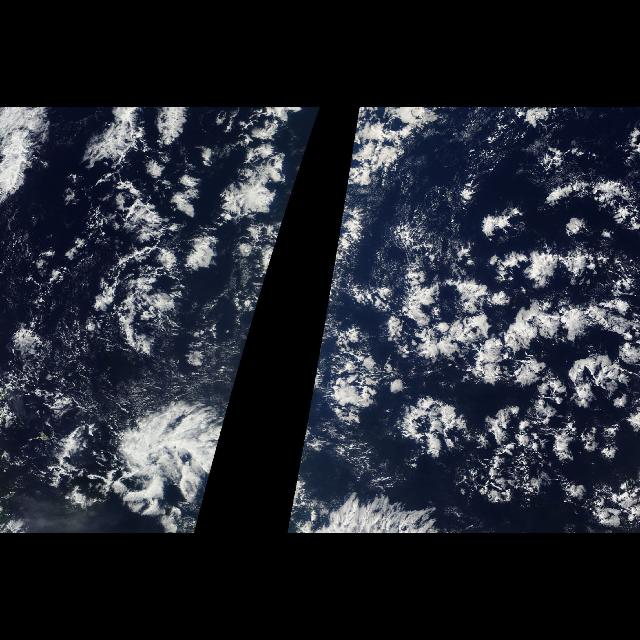Flower: (302, 121, 640, 526), (302, 121, 316, 165)
